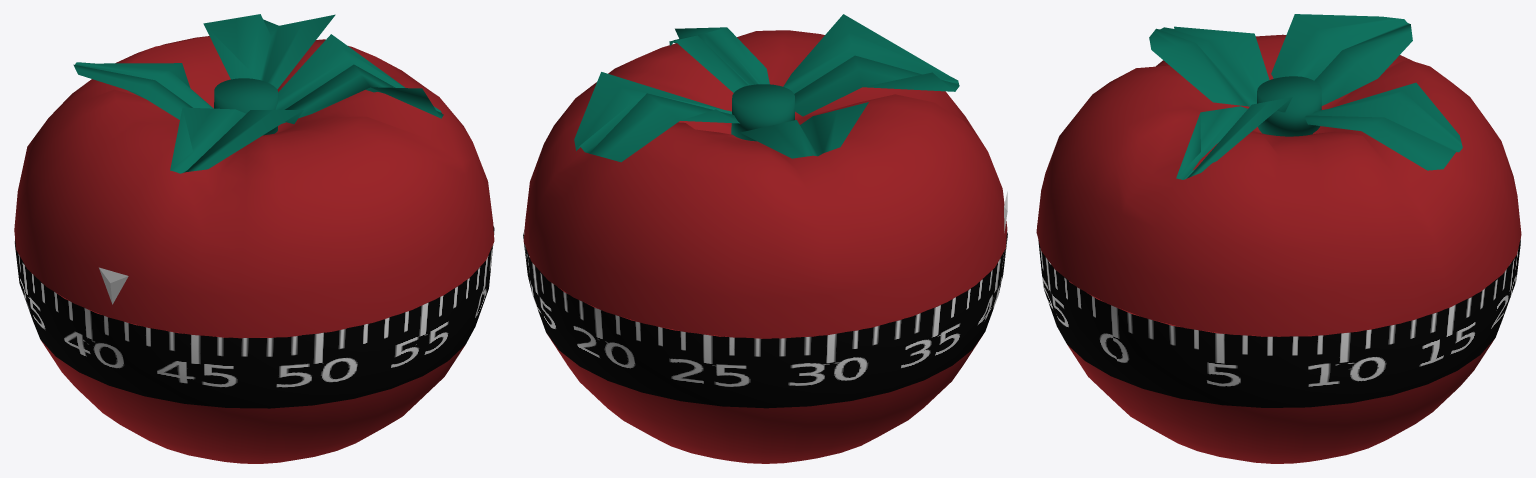
The model's file is tomato.glb.
3 renders of one model, left to right at view 1: azimuth 30°, elevation 25°; view 2: azimuth 150°, elevation 25°; view 3: azimuth 270°, elevation 25°, orthographic.
Visible parts, largest first — view 1: Sphere, Sphere.001, Plane, Cylinder, Cone; view 2: Sphere, Sphere.001, Plane, Cylinder; view 3: Sphere, Sphere.001, Plane, Cylinder.
Part boxes in pixels (x1,y1,x2,y2): Sphere: (14, 36, 494, 338); Sphere.001: (14, 226, 494, 463); Plane: (73, 14, 443, 173); Cylinder: (214, 78, 277, 135); Cone: (99, 267, 128, 304); Sphere: (523, 30, 1007, 338); Sphere.001: (523, 229, 1007, 463); Plane: (574, 14, 959, 162); Cylinder: (731, 84, 794, 141); Sphere: (1036, 34, 1521, 336); Sphere.001: (1037, 225, 1520, 463); Plane: (1149, 14, 1462, 179); Cylinder: (1257, 76, 1321, 136).
Bounding box in the file's own units: 1.99 × 1.74 × 2.
5 materials, 1 textured.
